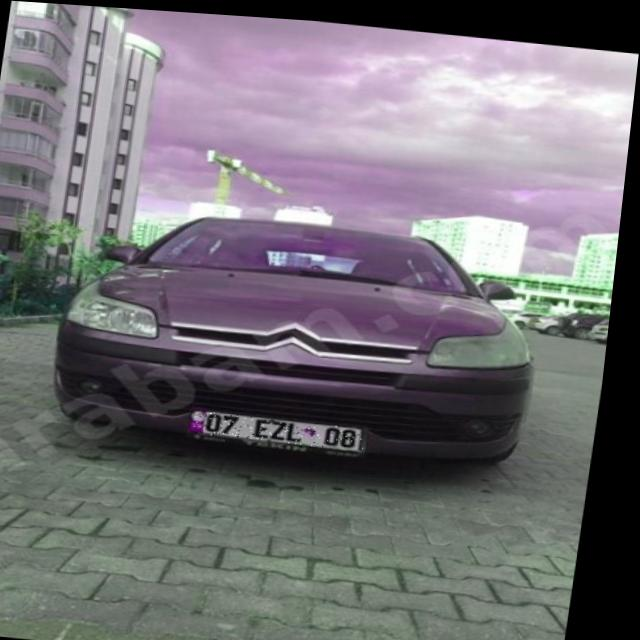license_plate: (197, 406, 377, 445)
